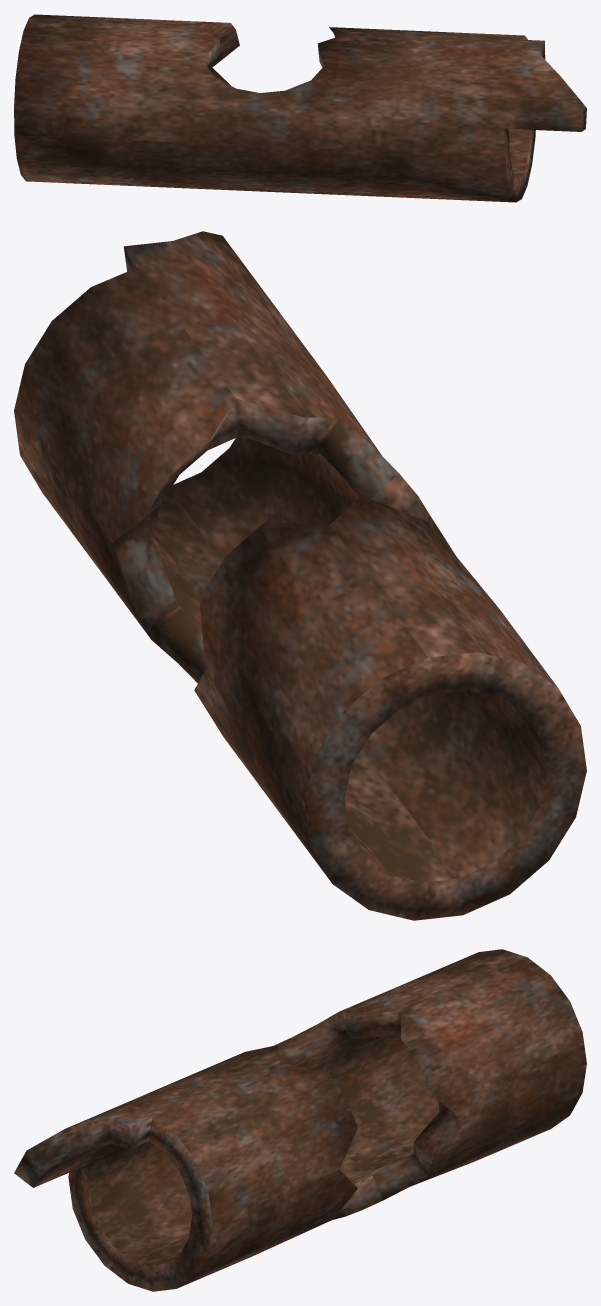
File: tuberia_5.obj
3 renders of one model, top to bottom at view 1: azimuth 30°, elevation 25°; view 2: azimuth 150°, elevation 25°; view 3: azimuth 270°, elevation 25°, orthographic. The views are drawn at different scales.
Parts seen in each view (by area): view 1: tuberia_5; view 2: tuberia_5; view 3: tuberia_5.
Boxes of the visible parts, x1,y1,x2,y2 form: tuberia_5: (14,14,586,202); tuberia_5: (14,231,586,920); tuberia_5: (14,949,586,1291).
Bounding box in the file's own units: 66.25 × 25.55 × 68.36.
1 material, 1 textured.
